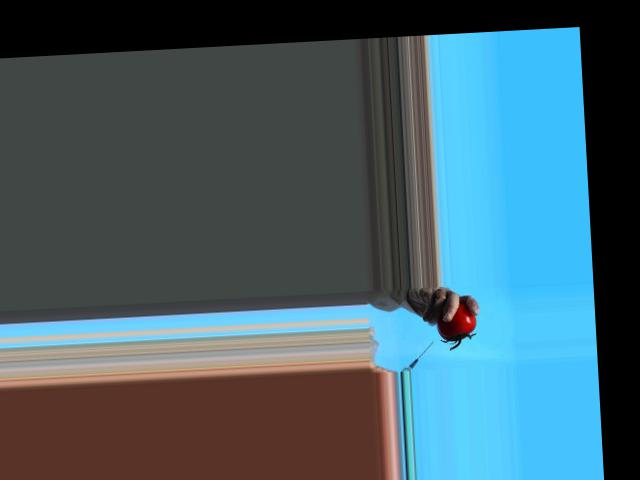tomato: (436, 300, 477, 341)
